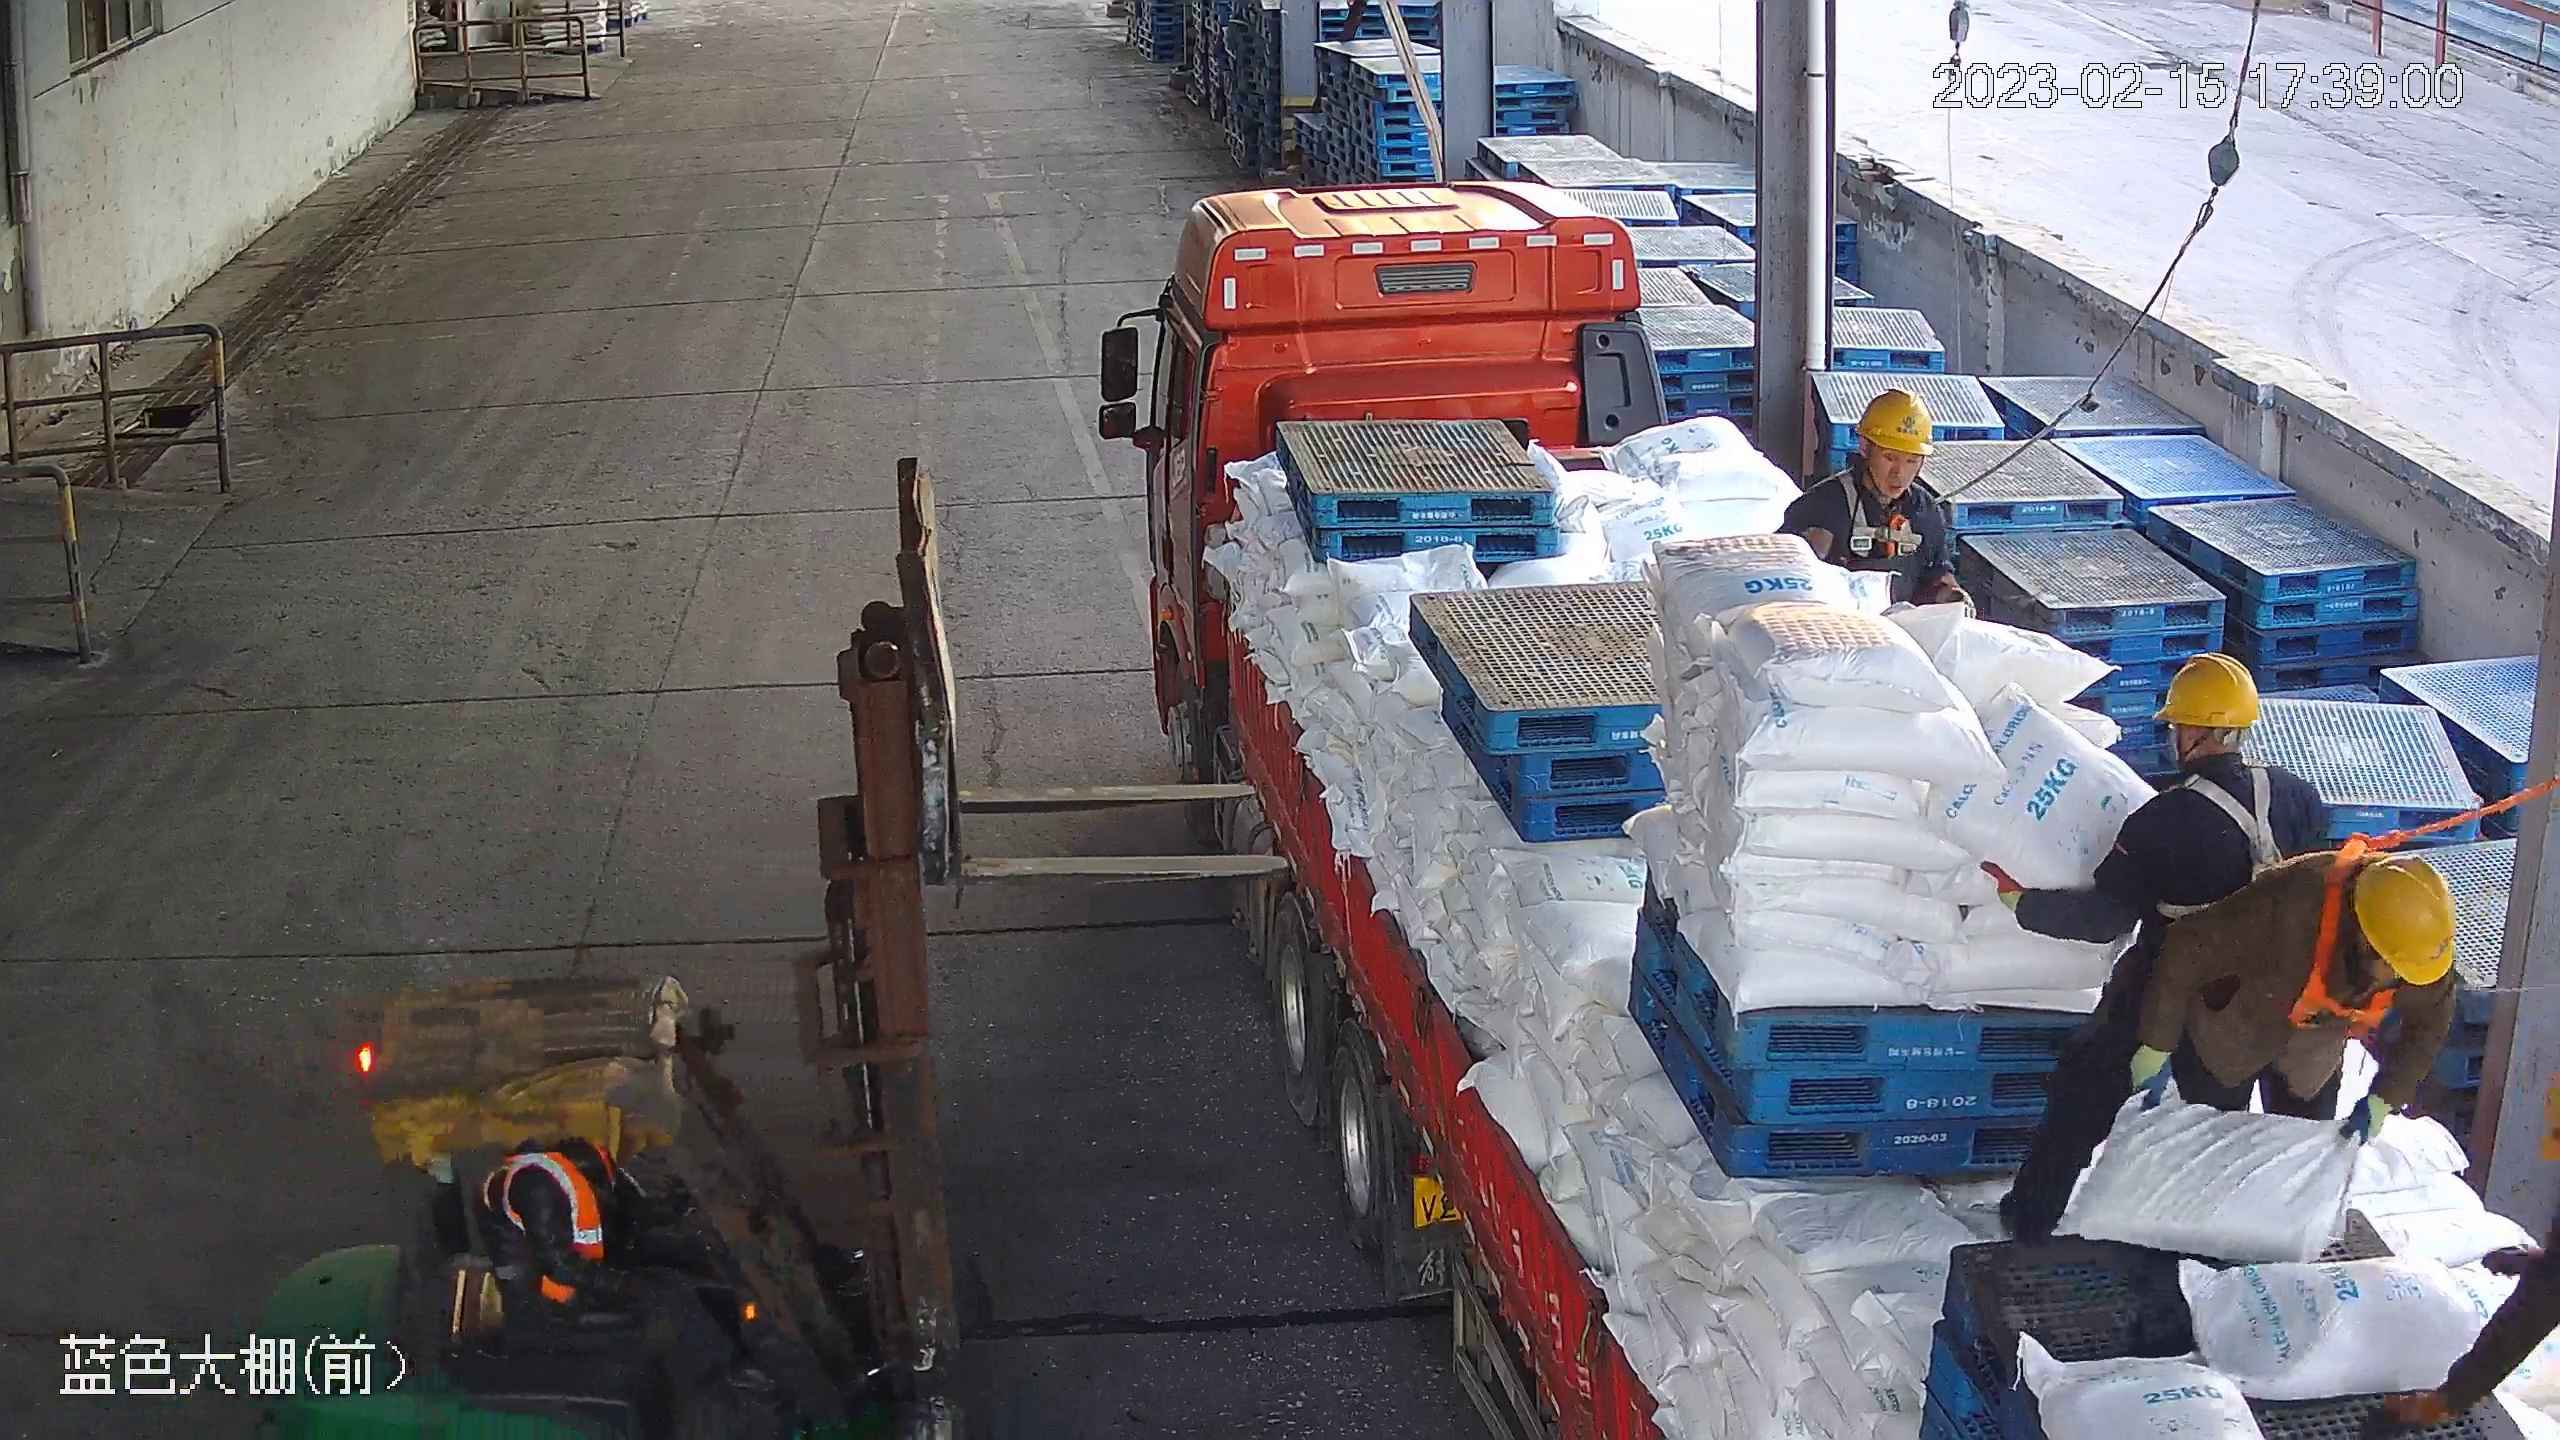belt: (2191, 777, 2307, 906), (2283, 970, 2392, 1060), (1844, 490, 1921, 558)
head: (2146, 658, 2321, 848), (2289, 846, 2459, 1004), (1802, 390, 1955, 527)
helmet: (2360, 858, 2460, 986), (2155, 651, 2265, 727), (1860, 386, 1939, 455)
people: (1983, 658, 2339, 1241), (2142, 846, 2462, 1141), (493, 1146, 777, 1401)
truck: (1090, 171, 2560, 1440)
